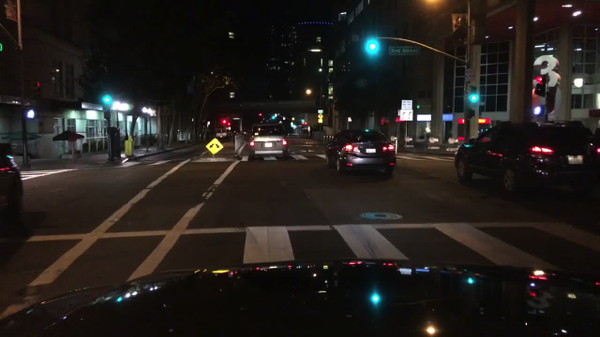car: (452, 118, 597, 198), (324, 130, 396, 177), (0, 142, 27, 241), (248, 122, 289, 160), (215, 128, 229, 139)
traffic light: (533, 73, 543, 95), (33, 81, 42, 97), (533, 106, 545, 116), (470, 85, 477, 102), (25, 110, 35, 119), (102, 95, 111, 104), (367, 42, 376, 51), (222, 119, 227, 125), (271, 115, 277, 120)
traffic sign: (388, 45, 420, 56), (204, 139, 224, 154), (400, 110, 413, 122), (463, 68, 473, 81), (401, 99, 412, 109), (316, 113, 324, 119), (317, 118, 323, 124), (317, 109, 324, 114), (397, 109, 401, 116)
